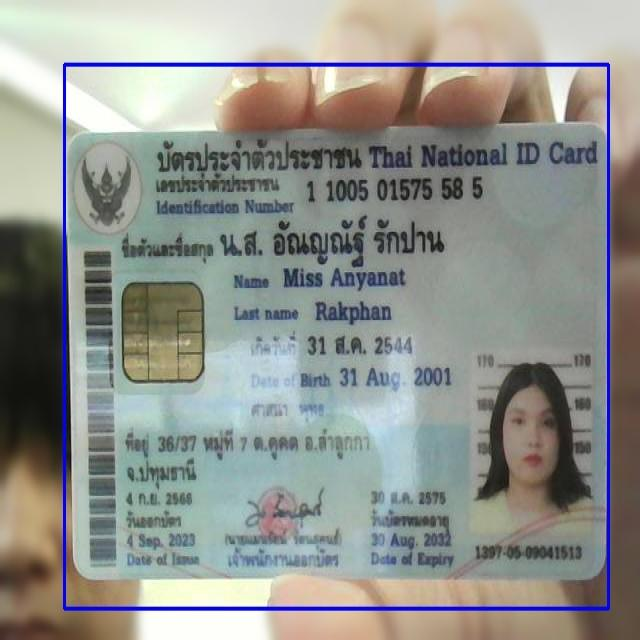Address_th: (121, 418, 375, 492)
Date_of_Birth: (337, 362, 456, 395)
Date_of_Expiry: (368, 527, 456, 552)
Date_of_Issue: (124, 526, 199, 551)
First_Name: (282, 264, 408, 294)
ID_Number: (300, 173, 490, 204)
Image: (474, 351, 595, 542)
Last_Name: (312, 299, 394, 326)
Thai_Name: (216, 214, 456, 266)
